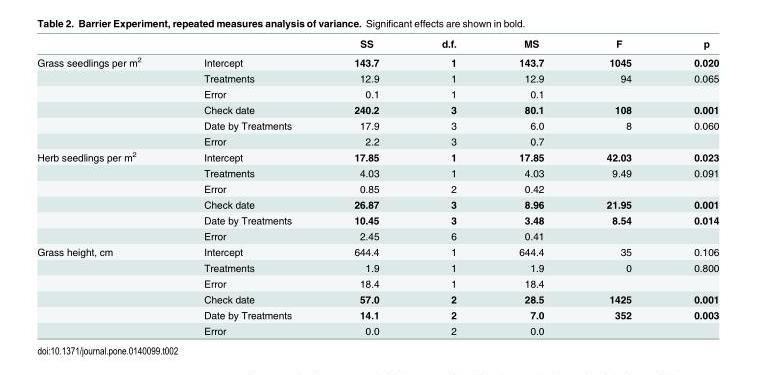table: (36, 37, 718, 336)
table column: (171, 37, 322, 336), (36, 37, 171, 336), (574, 37, 662, 336), (322, 37, 409, 336), (487, 37, 574, 336), (409, 37, 487, 336), (662, 37, 718, 336)
table column header: (36, 37, 718, 51)
table row: (36, 51, 718, 70), (36, 85, 718, 101), (36, 101, 718, 117), (36, 117, 718, 133), (36, 148, 718, 164), (36, 164, 718, 180), (36, 180, 718, 196), (36, 211, 718, 227), (36, 227, 718, 243), (36, 243, 718, 259), (36, 259, 718, 275), (36, 290, 718, 306), (36, 306, 718, 322), (36, 70, 718, 85), (36, 133, 718, 148), (36, 196, 718, 211), (36, 275, 718, 290), (36, 37, 718, 51), (36, 322, 718, 336)
table spanning cell: (36, 51, 171, 148), (36, 148, 171, 243), (36, 243, 171, 336)
